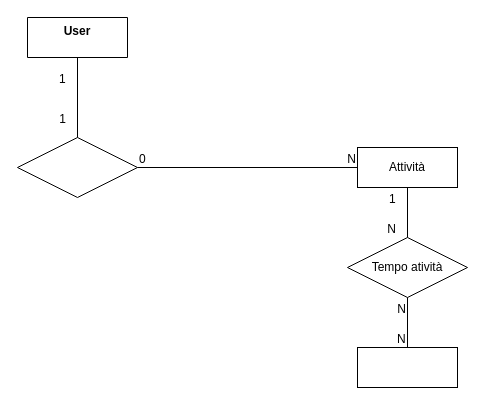
This 485x405 diagram has some shape labels left out. Here are the shapes that lost their labels. From the top down, the box of each, then its label:
(16, 136, 138, 198): Attività utente
(356, 346, 458, 388): Timer
